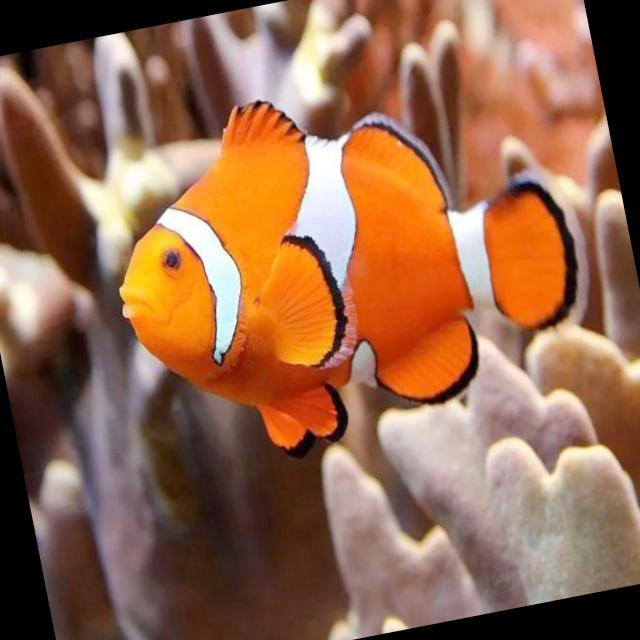ClownFish: (85, 40, 612, 478)
